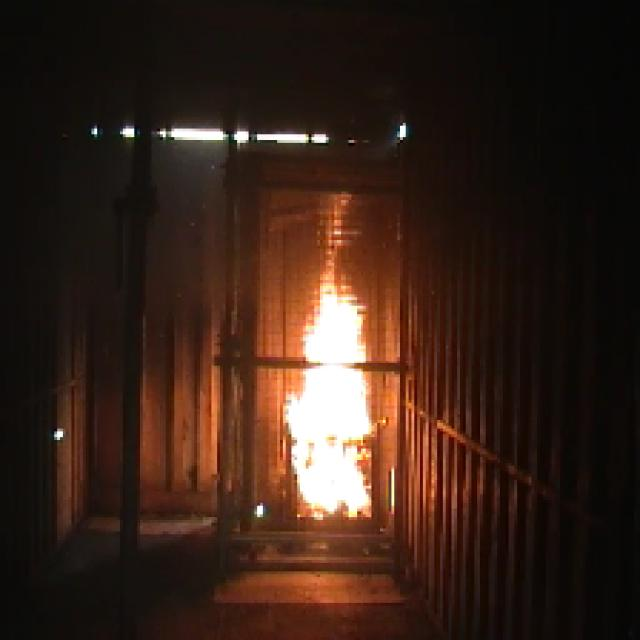fire: (288, 277, 372, 515)
